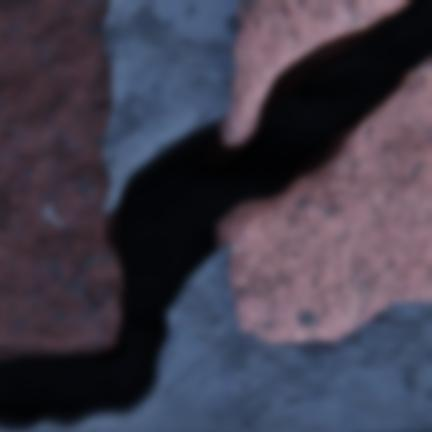brick: (0, 0, 123, 349)
broken_brick: (229, 56, 431, 342), (229, 0, 409, 129)
crack: (0, 0, 431, 430)
